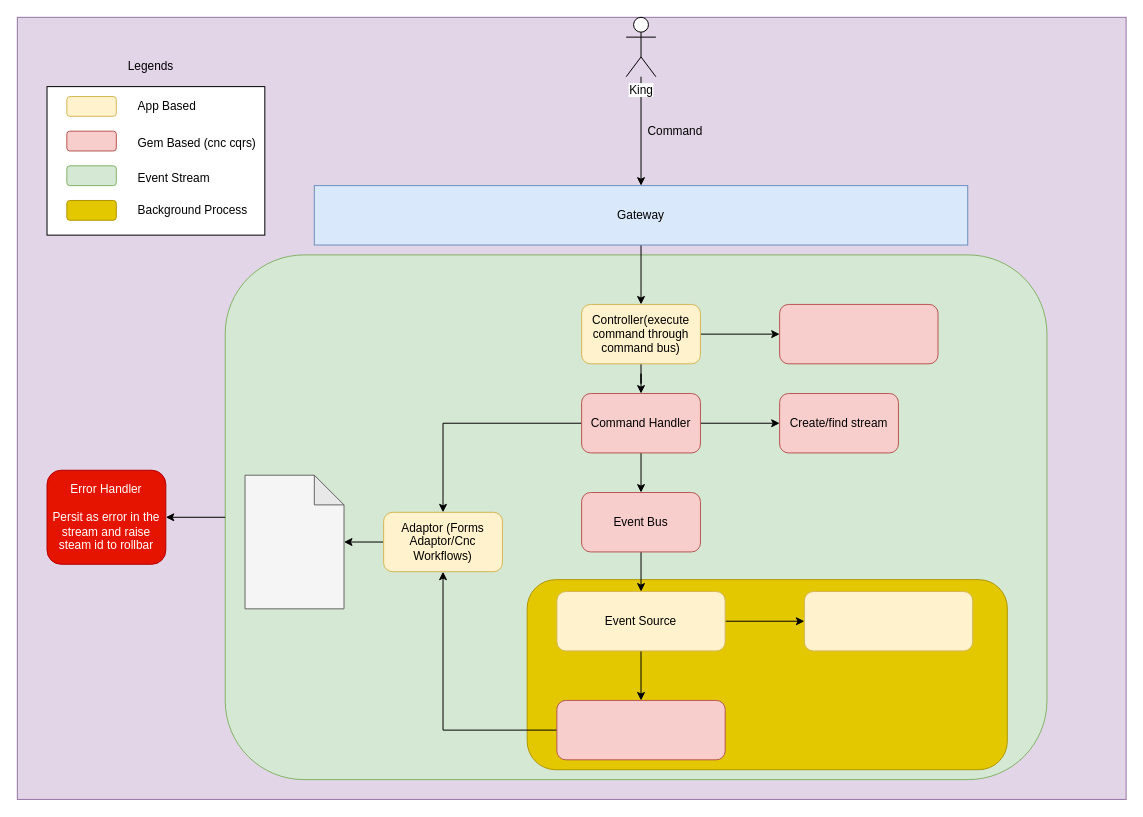
The diagram is 1143 pixels wide and 817 high, and some of its shapes have lost their labels. Each missing label, with the centre of its shape:
"Adaptor. Register event source. Default is Active Job" goes at [888,621].
"All Business logic related code will be handled by the adaptor" goes at [294,541].
"Event Handler" goes at [640,729].
"include Cnc::Cqrs::CommandBus" goes at [858,333].
